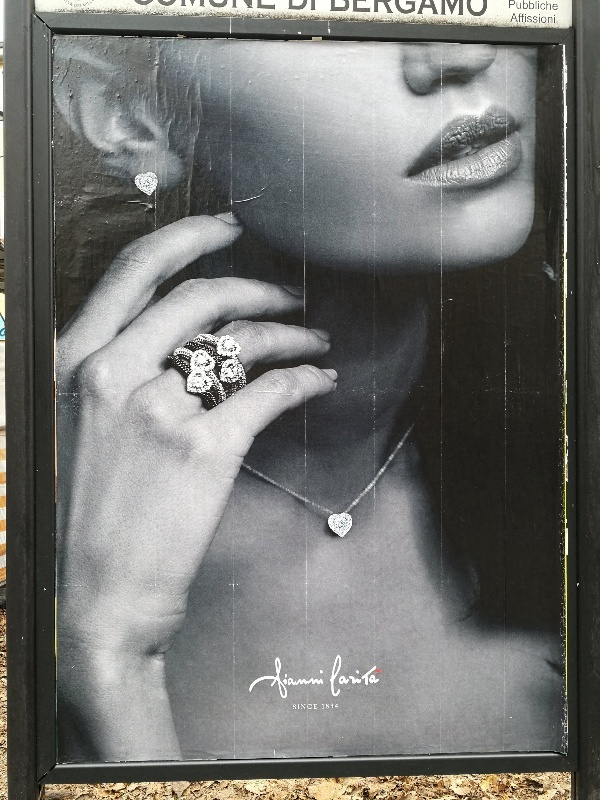text: (257, 656, 272, 706), (273, 656, 288, 706), (289, 656, 304, 706), (305, 656, 320, 706), (337, 656, 352, 699), (353, 656, 368, 699), (369, 656, 380, 699), (250, 656, 256, 706), (337, 1, 352, 17), (353, 1, 368, 17), (369, 1, 384, 17), (385, 1, 400, 17), (401, 1, 416, 17), (417, 1, 432, 17), (433, 1, 448, 17), (449, 1, 464, 17), (465, 1, 480, 17), (145, 1, 160, 14), (161, 1, 176, 14), (177, 1, 192, 14), (193, 1, 208, 14), (209, 1, 224, 14), (225, 1, 240, 14), (241, 1, 256, 14), (257, 1, 272, 14), (289, 1, 304, 14), (513, 1, 528, 13), (529, 1, 544, 13), (529, 13, 544, 25), (545, 1, 559, 13), (514, 13, 528, 25), (305, 1, 317, 14), (321, 656, 324, 706), (545, 13, 556, 25), (481, 1, 489, 17), (136, 1, 144, 14), (322, 703, 336, 709), (331, 1, 336, 17), (305, 704, 318, 710), (293, 704, 304, 710), (335, 656, 336, 699), (273, 1, 276, 14), (509, 1, 512, 13), (337, 703, 339, 709)
